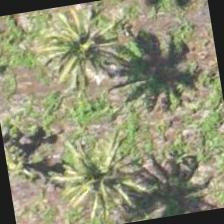Kelapa_Sawit: (28, 0, 131, 96), (51, 129, 155, 223)
